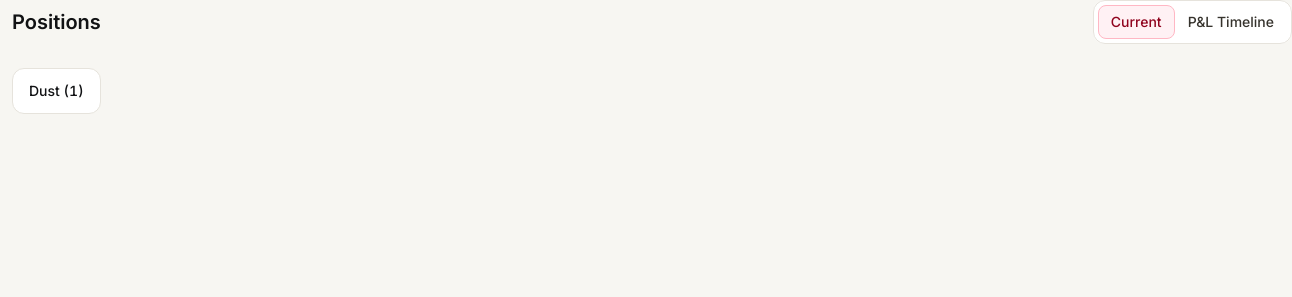
Test: Positions › parks a large position in dust when the API marks it as dust
Click the button with test id "dust-toggle". click: (56,91)
box: [12,68,101,114]
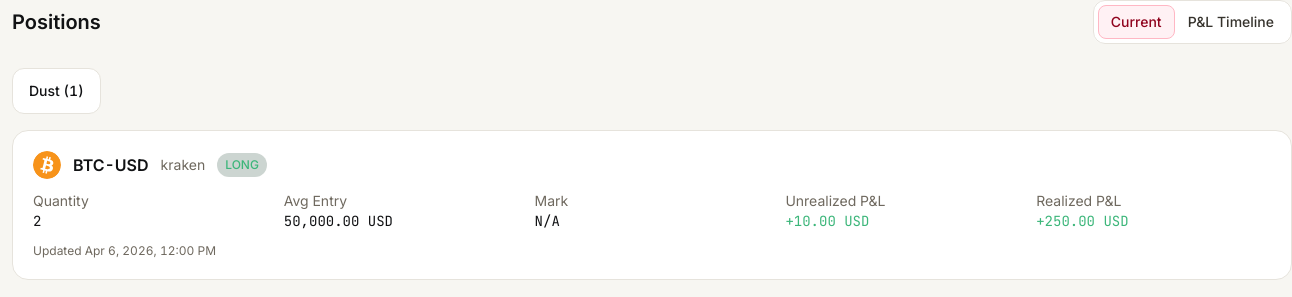
Result: the text with test id "position-side-BTC-USD-kraken-live" reads "LONG" at [225,157,259,172]
